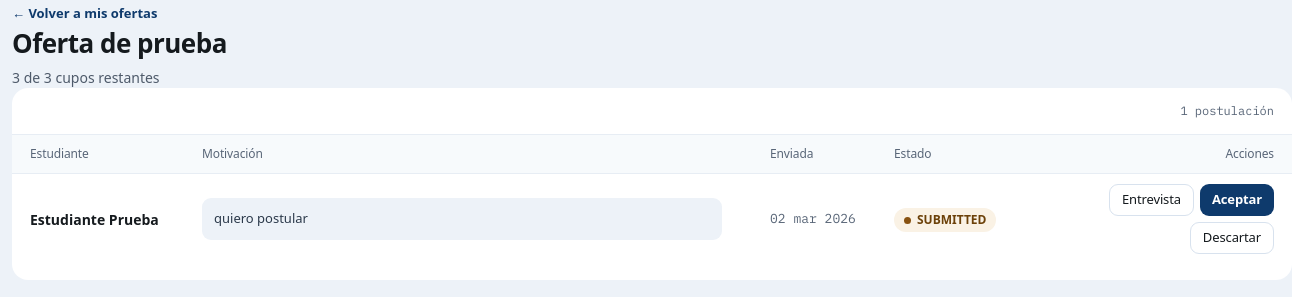
Test case: OfferApplicationsPage — mensajes de error de carga (F-1b) › cuando falla la recarga tras decidir: otro estado de ApiError, con su mensaje
Click the button "Aceptar".
click(1237, 200)  # box x1=1200 y1=184 x2=1274 y2=216
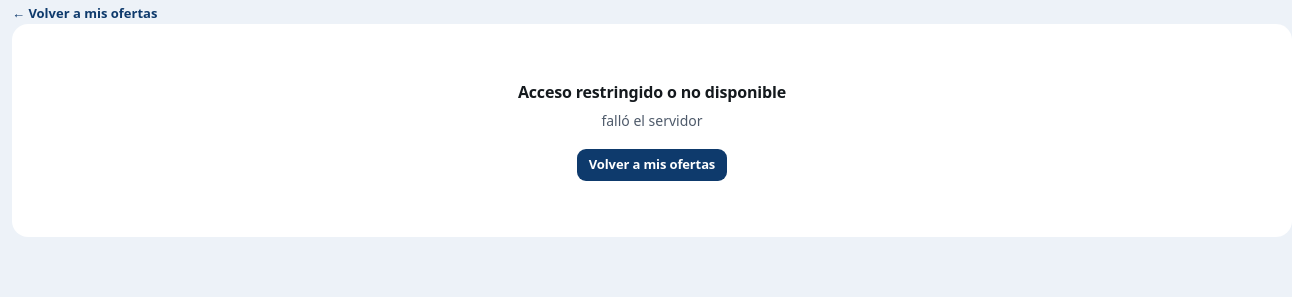
Result: the text "falló el servidor" is shown at x1=601 y1=110 x2=702 y2=131
Result: the text "Acceso restringido o no disponible" is shown at x1=518 y1=80 x2=786 y2=104
